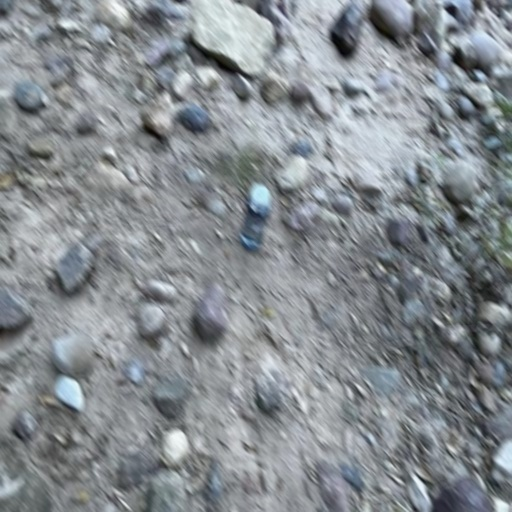bottle: (241, 184, 271, 251)
